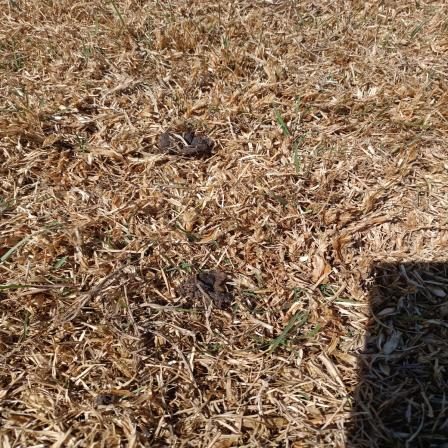dog-poop: (158, 123, 224, 165), (186, 266, 239, 308)
